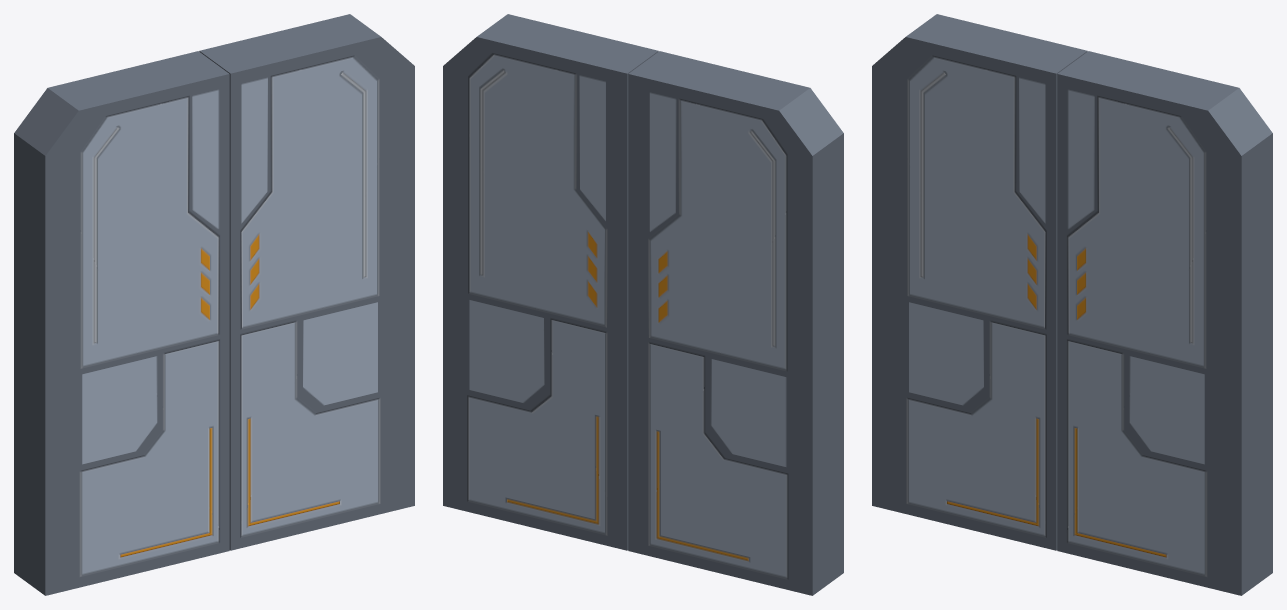
File: papanpintu3m.dae
The picture shows the model from 3 angles, left to right: view 1: azimuth 30°, elevation 25°; view 2: azimuth 150°, elevation 25°; view 3: azimuth 330°, elevation 25°; orthographic projection.
Visible parts, largest first — view 1: Cube.042, Cube.050; view 2: Cube.042, Cube.050; view 3: Cube.050, Cube.042.
Part boxes in pixels (bbox=[...]): Cube.042: bbox=[14, 51, 229, 595]; Cube.050: bbox=[199, 14, 414, 550]; Cube.042: bbox=[628, 51, 843, 595]; Cube.050: bbox=[443, 14, 658, 550]; Cube.050: bbox=[1057, 51, 1272, 595]; Cube.042: bbox=[872, 14, 1087, 550].
Bounding box in the file's own units: 1.47 × 0.2158 × 1.81.
